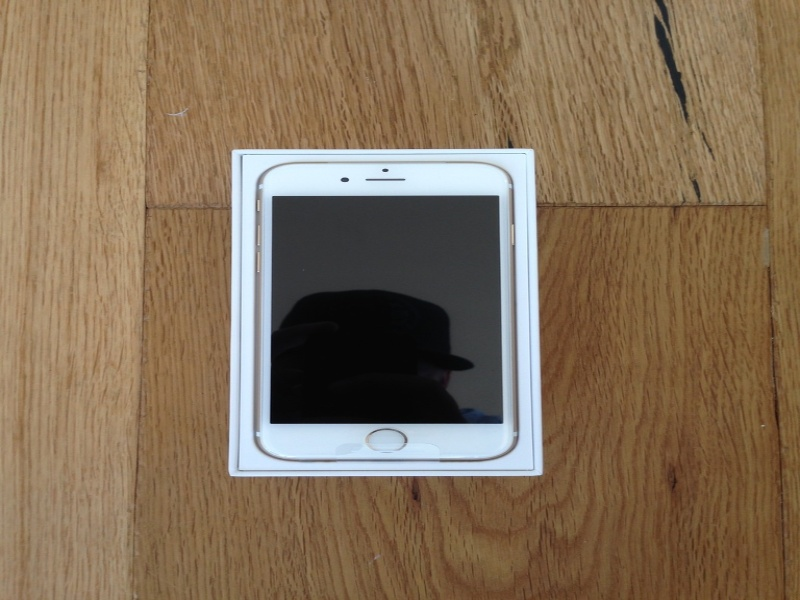cellphone: (251, 157, 524, 464)
